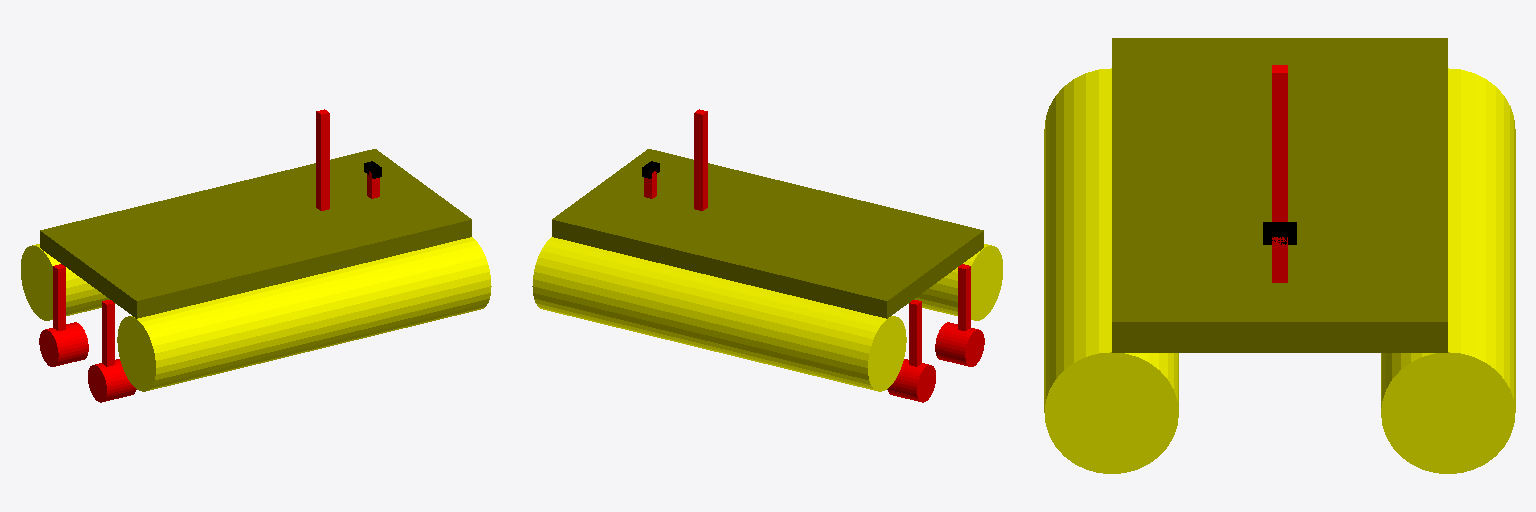
robot.urdf — athena:
<?xml version="1.0" ?>
<!-- =================================================================================== -->
<!-- |    This document was autogenerated by xacro from urdf/athena.urdf.xacro         | -->
<!-- |    EDITING THIS FILE BY HAND IS NOT RECOMMENDED                                 | -->
<!-- =================================================================================== -->
<robot name="athena">
  <include filename="[local-path]/AllSeaingVehicle/src/sim_suite/urdf/inertia.xacro"/>
  <link name="dummy_base_link"/>
  <joint name="dummy_base_joint" type="fixed">
    <parent link="dummy_base_link"/>
    <child link="base_link"/>
    <origin rpy="0 0 0" xyz="0 0 0"/>
  </joint>
  <link name="base_link">
    <visual>
      <geometry>
        <box size="1.0 0.5 0.05"/>
      </geometry>
      <material name="brown">
        <color rgba="0.5 0.5 0 1"/>
      </material>
    </visual>
    <collision>
      <geometry>
        <box size="1.0 0.5 0.05"/>
      </geometry>
    </collision>
    <inertial>
      <mass value=".10"/>
      <inertia ixx="0.008354166666666668" ixy="0" ixz="0" iyy="0.010416666666666666" iyz="0" izz="0.002104166666666667"/>
    </inertial>
  </link>
  <link name="right_hull">
    <visual>
      <geometry>
        <cylinder length="1.0" radius="0.1"/>
      </geometry>
      <material name="yellow">
        <color rgba="1 1 0 1"/>
      </material>
    </visual>
    <collision>
      <geometry>
        <cylinder length="1.0" radius="0.1"/>
      </geometry>
    </collision>
    <intertial>
      <mass value=".5"/>
      <inertia ixx="0.042916666666666665" ixy="0" ixz="0" iyy="0.042916666666666665" iyz="0" izz="0.0025000000000000005"/>
    </intertial>
  </link>
  <joint name="right_hull_joint" type="fixed">
    <parent link="base_link"/>
    <child link="right_hull"/>
    <origin rpy="0 1.57 0" xyz="0 0.25 -0.125"/>
  </joint>
  <link name="left_hull">
    <visual>
      <geometry>
        <cylinder length="1.0" radius="0.1"/>
      </geometry>
      <material name="yellow">
        <color rgba="1 1 0 1"/>
      </material>
    </visual>
    <collision>
      <geometry>
        <cylinder length="1.0" radius="0.1"/>
      </geometry>
    </collision>
    <intertial>
      <mass value=".5"/>
      <inertia ixx="0.042916666666666665" ixy="0" ixz="0" iyy="0.042916666666666665" iyz="0" izz="0.0025000000000000005"/>
    </intertial>
  </link>
  <joint name="left_hull_joint" type="fixed">
    <parent link="base_link"/>
    <child link="left_hull"/>
    <origin rpy="0 1.57 0" xyz="0 -0.25 -0.125"/>
  </joint>
  <link name="camera_stand">
    <visual>
      <geometry>
        <box size=".025 .025 0.1"/>
      </geometry>
      <material name="red">
        <color rgba="1 0 0 1"/>
      </material>
    </visual>
    <inertial>
      <mass value=".05"/>
      <inertia ixx="4.427083333333334e-05" ixy="0" ixz="0" iyy="5.208333333333335e-06" iyz="0" izz="4.427083333333334e-05"/>
    </inertial>
  </link>
  <joint name="camera_stand_joint" type="fixed">
    <parent link="base_link"/>
    <child link="camera_stand"/>
    <origin xyz="0.35 0 0.05"/>
  </joint>
  <link name="camera_link">
    <visual>
      <geometry>
        <box size=".025 .05 .025"/>
      </geometry>
      <material name="black">
        <color rgba="0 0 0 1"/>
      </material>
    </visual>
    <inertial>
      <mass value=".05"/>
      <inertia ixx="5.208333333333335e-06" ixy="0" ixz="0" iyy="1.3020833333333336e-05" iyz="0" izz="1.3020833333333336e-05"/>
    </inertial>
  </link>
  <gazebo reference="camera_link">
    <sensor name="camera1" type="camera">
      <horizontal_fov>1.047</horizontal_fov>
      <visualize>true</visualize>
      <image>
        <width>640</width>
        <height>480</height>
      </image>
      <clip>
        <near>0.1</near>
        <far>100</far>
      </clip>
      <always_on>1</always_on>
      <update_rate>30</update_rate>
      <plugin filename="libgazebo_ros_camera.so" name="camera_controller">
        <alwaysOn>1</alwaysOn>
        <updateRate>0.0</updateRate>
        <cameraName>zed2i</cameraName>
        <imageTopicName>/zed2i/zed_node/rgb/image_rect_color</imageTopicName>
        <cameraInfoTopicName>/zed_node/camera_info</cameraInfoTopicName>
        <frameName>camera_link</frameName>
        <hackBaseline>0.07</hackBaseline>
        <distortionK1>0.0</distortionK1>
        <distortionK2>0.0</distortionK2>
        <distortionK3>0.0</distortionK3>
        <distortionT1>0.0</distortionT1>
        <distortionT2>0.0</distortionT2>
      </plugin>
    </sensor>
  </gazebo>
  <joint name="camera_joint" type="fixed">
    <parent link="camera_stand"/>
    <child link="camera_link"/>
    <origin xyz="0 0 0.05"/>
  </joint>
  <link name="lidar_stand">
    <visual>
      <geometry>
        <box size=".025 .025 0.3"/>
      </geometry>
      <material name="red">
        <color rgba="1 0 0 1"/>
      </material>
    </visual>
    <inertial>
      <mass value=".25"/>
      <inertia ixx="0.0018880208333333333" ixy="0" ixz="0" iyy="2.6041666666666672e-05" iyz="0" izz="0.0018880208333333333"/>
    </inertial>
  </link>
  <joint name="lidar_stand_joint" type="fixed">
    <parent link="base_link"/>
    <child link="lidar_stand"/>
    <origin xyz=".2 0 0.15"/>
  </joint>
  <link name="imu_link">
    <pose frame="">0 0 0 0 -0 0</pose>
    <inertial>
      <mass value="0.015"/>
      <inertia ixx="1e-05" ixy="0" ixz="0" iyy="1e-05" iyz="0" izz="1e-05"/>
    </inertial>
    <self_collide>0</self_collide>
    <enable_wind>0</enable_wind>
    <kinematic>0</kinematic>
  </link>
  <joint name="imu_joint" type="fixed">
    <parent link="base_link"/>
    <child link="imu_link"/>
    <pose frame="">0 0 0 0 -0 0</pose>
    <axis>
      <xyz>1 0 0</xyz>
      <use_parent_model_frame>1</use_parent_model_frame>
      <limit>
        <lower>0</lower>
        <upper>0</upper>
        <effort>0</effort>
        <velocity>0</velocity>
      </limit>
      <dynamics>
        <spring_reference>0</spring_reference>
        <spring_stiffness>0</spring_stiffness>
        <damping>0.7</damping>
        <friction>0</friction>
      </dynamics>
    </axis>
    <physics>
      <ode>
        <limit>
          <cfm>0</cfm>
          <erp>0.2</erp>
        </limit>
        <suspension>
          <cfm>0</cfm>
          <erp>0.2</erp>
        </suspension>
      </ode>
    </physics>
  </joint>
  <gazebo reference="imu_link">
    <sensor name="imu_sensor" type="imu">
      <pose frame="">0 0 0 -3.14159 -0 0</pose>
      <always_on>1</always_on>
      <update_rate>1000</update_rate>
      <imu/>
    </sensor>
  </gazebo>
  <link name="left_motor_mount">
    <visual>
      <geometry>
        <box size=".025 .025 0.25"/>
      </geometry>
      <material name="red">
        <color rgba="1 0 0 1"/>
      </material>
    </visual>
    <inertial>
      <mass value=".1"/>
      <inertia ixx="0.0005260416666666667" ixy="0" ixz="0" iyy="1.041666666666667e-05" iyz="0" izz="0.0005260416666666667"/>
    </inertial>
  </link>
  <joint name="left_motor_mount_joint" type="fixed">
    <parent link="base_link"/>
    <child link="left_motor_mount"/>
    <origin xyz="-0.5125 -0.125 -0.15"/>
    <!-- <axis xyz="0 0 1"/>
        <limit lower="${-(deck_height + left_motor_height)/2}" upper="${-(deck_height +
    left_motor_height)/2}" effort="100" velocity="100"/> -->
  </joint>
  <link name="right_motor_mount">
    <visual>
      <geometry>
        <box size=".025 .025 0.25"/>
      </geometry>
      <material name="red">
        <color rgba="1 0 0 1"/>
      </material>
    </visual>
    <inertial>
      <mass value=".1"/>
      <inertia ixx="0.0005260416666666667" ixy="0" ixz="0" iyy="1.041666666666667e-05" iyz="0" izz="0.0005260416666666667"/>
    </inertial>
  </link>
  <joint name="right_motor_mount_joint" type="fixed">
    <parent link="base_link"/>
    <child link="right_motor_mount"/>
    <origin xyz="-0.5125 0.125 -0.15"/>
    <!-- <axis xyz="0 0 1"/>
        <limit lower="0" upper="0" effort="100" velocity="100"/> -->
  </joint>
  <!-- <xacro:propeller side="left"/>  -->
  <link name="left_propeller_link">
    <!-- <pose>0 0 0 0 -1.57079 0</pose> -->
    <inertial>
      <origin rpy="0 1.57 0"/>
      <!-- <pose>0 0 -.16 0 -0 0</pose> -->
      <mass value="0.5"/>
      <inertia ixx="0.008545" ixy="0" ixz="0" iyy="0.008545" iyz="0" izz="0.0144"/>
    </inertial>
    <self_collide>0</self_collide>
    <enable_wind>0</enable_wind>
    <kinematic>0</kinematic>
    <visual name="left_propeller_link_visual">
      <!-- <pose>0 0 0 0 -1.57079 0</pose> -->
      <origin rpy="0 1.57 0"/>
      <geometry>
        <!-- <mesh>
      <scale>1 1 1</scale>
      <uri>model://boat/meshes/propeller.dae</uri>
    </mesh> -->
        <cylinder length="0.09" radius="0.05"/>
      </geometry>
      <material name="red">
        <color rgba="1 0 0 1"/>
      </material>
    </visual>
    <collision name="left_propeller_link_collision">
      <origin rpy="0 1.57 0"/>
      <laser_retro>0</laser_retro>
      <max_contacts>10</max_contacts>
      <!-- <pose>-0.08 0 0 3.14159 -0 3.14159</pose> -->
      <geometry>
        <cylinder length="0.09" radius="0.05"/>
      </geometry>
      <surface>
        <friction>
          <ode>
            <mu>1</mu>
            <mu2>1</mu2>
            <fdir1>0 0 0</fdir1>
            <slip1>0</slip1>
            <slip2>0</slip2>
          </ode>
          <torsional>
            <coefficient>1</coefficient>
            <patch_radius>0</patch_radius>
            <surface_radius>0</surface_radius>
            <use_patch_radius>1</use_patch_radius>
            <ode>
              <slip>0</slip>
            </ode>
          </torsional>
        </friction>
        <bounce>
          <restitution_coefficient>0</restitution_coefficient>
          <threshold>1e+06</threshold>
        </bounce>
        <contact>
          <collide_without_contact>0</collide_without_contact>
          <collide_without_contact_bitmask>1</collide_without_contact_bitmask>
          <collide_bitmask>1</collide_bitmask>
          <ode>
            <soft_cfm>0</soft_cfm>
            <soft_erp>0.2</soft_erp>
            <kp>1e+13</kp>
            <kd>1</kd>
            <max_vel>0.01</max_vel>
            <min_depth>0</min_depth>
          </ode>
          <bullet>
            <split_impulse>1</split_impulse>
            <split_impulse_penetration_threshold>-0.01</split_impulse_penetration_threshold>
            <soft_cfm>0</soft_cfm>
            <soft_erp>0.2</soft_erp>
            <kp>1e+13</kp>
            <kd>1</kd>
          </bullet>
        </contact>
      </surface>
    </collision>
  </link>
  <gazebo reference="left_propeller_link">
    <pose relative_to="left_motor_joint">0 0 0 0 -0 0</pose>
  </gazebo>
  <joint name="left_motor_joint" type="revolute">
    <parent link="base_link"/>
    <child link="left_propeller_link"/>
    <origin xyz="-0.5  0.125 -0.25"/>
    <limit effort="-1" lower="-1e+16" upper="1e+16" velocity="-1"/>
    <axis xyz="1 0 0"/>
    <physics>
      <ode>
        <limit>
          <cfm>0</cfm>
          <erp>0.2</erp>
        </limit>
        <suspension>
          <cfm>0</cfm>
          <erp>0.2</erp>
        </suspension>
      </ode>
    </physics>
  </joint>
  <gazebo reference="left_motor_joint">
    <use_parent_model_frame>1</use_parent_model_frame>
  </gazebo>
  <link name="right_propeller_link">
    <!-- <pose>0 0 0 0 -1.57079 0</pose> -->
    <inertial>
      <!-- <pose>0 0 -.16 0 -0 0</pose> -->
      <origin rpy="0 1.57 0"/>
      <mass value="0.5"/>
      <inertia ixx="0.008545" ixy="0" ixz="0" iyy="0.008545" iyz="0" izz="0.0144"/>
    </inertial>
    <self_collide>0</self_collide>
    <enable_wind>0</enable_wind>
    <kinematic>0</kinematic>
    <visual name="right_propeller_link_visual">
      <!-- <pose>0 0 0 0 -1.57079 0</pose> -->
      <geometry>
        <!-- <mesh>
    <scale>1 1 1</scale>
    <uri>model://boat/meshes/propeller.dae</uri>
  </mesh> -->
        <cylinder length="0.09" radius="0.05"/>
      </geometry>
      <origin rpy="0 1.57 0"/>
      <material name="red">
        <color rgba="1 0 0 1"/>
      </material>
    </visual>
    <collision name="right_propeller_link_collision">
      <origin rpy="0 1.57 0"/>
      <laser_retro>0</laser_retro>
      <max_contacts>10</max_contacts>
      <!-- <pose>-0.08 0 0 3.14159 -0 3.14159</pose> -->
      <geometry>
        <cylinder length="0.09" radius="0.05"/>
      </geometry>
      <surface>
        <friction>
          <ode>
            <mu>1</mu>
            <mu2>1</mu2>
            <fdir1>0 0 0</fdir1>
            <slip1>0</slip1>
            <slip2>0</slip2>
          </ode>
          <torsional>
            <coefficient>1</coefficient>
            <patch_radius>0</patch_radius>
            <surface_radius>0</surface_radius>
            <use_patch_radius>1</use_patch_radius>
            <ode>
              <slip>0</slip>
            </ode>
          </torsional>
        </friction>
        <bounce>
          <restitution_coefficient>0</restitution_coefficient>
          <threshold>1e+06</threshold>
        </bounce>
        <contact>
          <collide_without_contact>0</collide_without_contact>
          <collide_without_contact_bitmask>1</collide_without_contact_bitmask>
          <collide_bitmask>1</collide_bitmask>
          <ode>
            <soft_cfm>0</soft_cfm>
            <soft_erp>0.2</soft_erp>
            <kp>1e+13</kp>
            <kd>1</kd>
            <max_vel>0.01</max_vel>
            <min_depth>0</min_depth>
          </ode>
          <bullet>
            <split_impulse>1</split_impulse>
            <split_impulse_penetration_threshold>-0.01</split_impulse_penetration_threshold>
            <soft_cfm>0</soft_cfm>
            <soft_erp>0.2</soft_erp>
            <kp>1e+13</kp>
            <kd>1</kd>
          </bullet>
        </contact>
      </surface>
    </collision>
  </link>
  <joint name="right_motor_joint" type="revolute">
    <parent link="base_link"/>
    <child link="right_propeller_link"/>
    <origin xyz="-0.5 -0.125 -0.25"/>
    <limit effort="-1" lower="-1e+16" upper="1e+16" velocity="-1"/>
    <axis xyz="1 0 0"/>
    <physics>
      <ode>
        <limit>
          <cfm>0</cfm>
          <erp>0.2</erp>
        </limit>
        <suspension>
          <cfm>0</cfm>
          <erp>0.2</erp>
        </suspension>
      </ode>
    </physics>
  </joint>
  <gazebo reference="right_motor_joint">
    <use_parent_model_frame>1</use_parent_model_frame>
  </gazebo>

</robot>

--- Facts derived from the render (not from the file) ---
The picture shows the robot from 3 angles, left to right: view 1: azimuth 30°, elevation 25°; view 2: azimuth 150°, elevation 25°; view 3: azimuth 270°, elevation 25°; orthographic projection.
Robot: athena — 12 links, 11 joints (2 revolute, 9 fixed); root link dummy_base_link; default pose: every joint at zero.
Visible links, largest first — view 1: base_link, left_hull, right_hull, left_propeller_link, right_propeller_link, lidar_stand, left_motor_mount, right_motor_mount; view 2: base_link, right_hull, left_hull, right_propeller_link, left_propeller_link, lidar_stand, left_motor_mount, right_motor_mount; view 3: base_link, right_hull, left_hull, lidar_stand, camera_stand, camera_link.
Boxes of the visible links, box(x1,y1,x2,y2) form: base_link: box(40, 149, 471, 318); left_hull: box(117, 237, 491, 391); right_hull: box(21, 244, 115, 320); left_propeller_link: box(39, 322, 88, 366); right_propeller_link: box(88, 359, 136, 402); lidar_stand: box(316, 109, 329, 210); left_motor_mount: box(102, 300, 114, 366); right_motor_mount: box(53, 264, 65, 330); base_link: box(552, 149, 983, 318); right_hull: box(532, 237, 906, 391); left_hull: box(908, 244, 1002, 320); right_propeller_link: box(935, 322, 984, 366); left_propeller_link: box(887, 359, 935, 402); lidar_stand: box(694, 109, 707, 210); left_motor_mount: box(958, 264, 970, 330); right_motor_mount: box(909, 300, 921, 366); base_link: box(1112, 38, 1447, 352); right_hull: box(1381, 68, 1515, 473); left_hull: box(1044, 68, 1178, 473); lidar_stand: box(1272, 65, 1287, 221); camera_stand: box(1272, 237, 1287, 282); camera_link: box(1263, 222, 1296, 244).
Bounding box of the posed robot: 1.05 × 0.7 × 0.6 m (x, y, z).
Geometry: primitives only (box / cylinder / sphere), no mesh files.